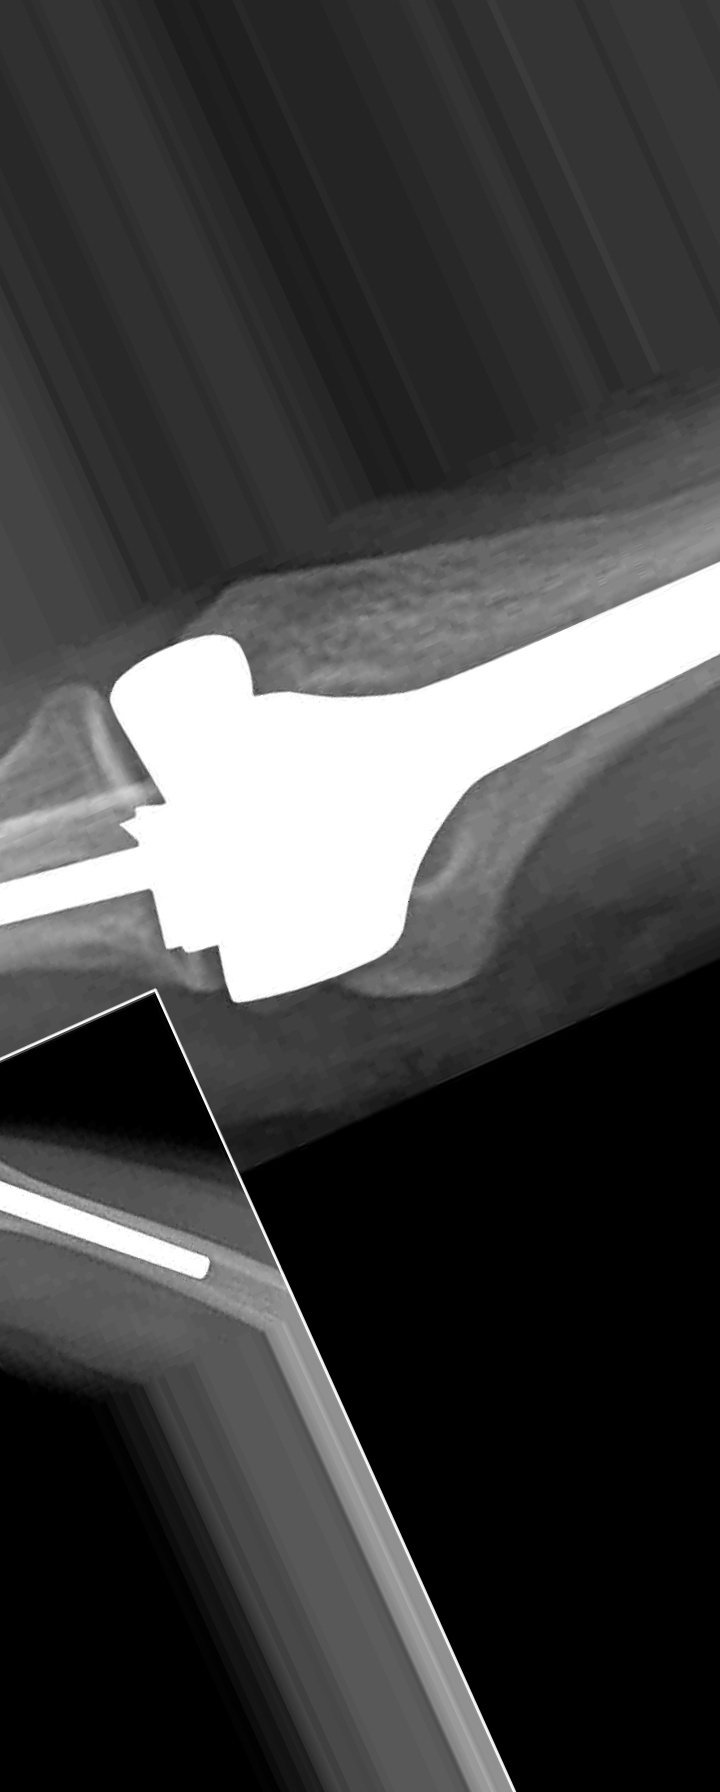Elbow - IBP - Biomet: (6, 543, 720, 1009)
